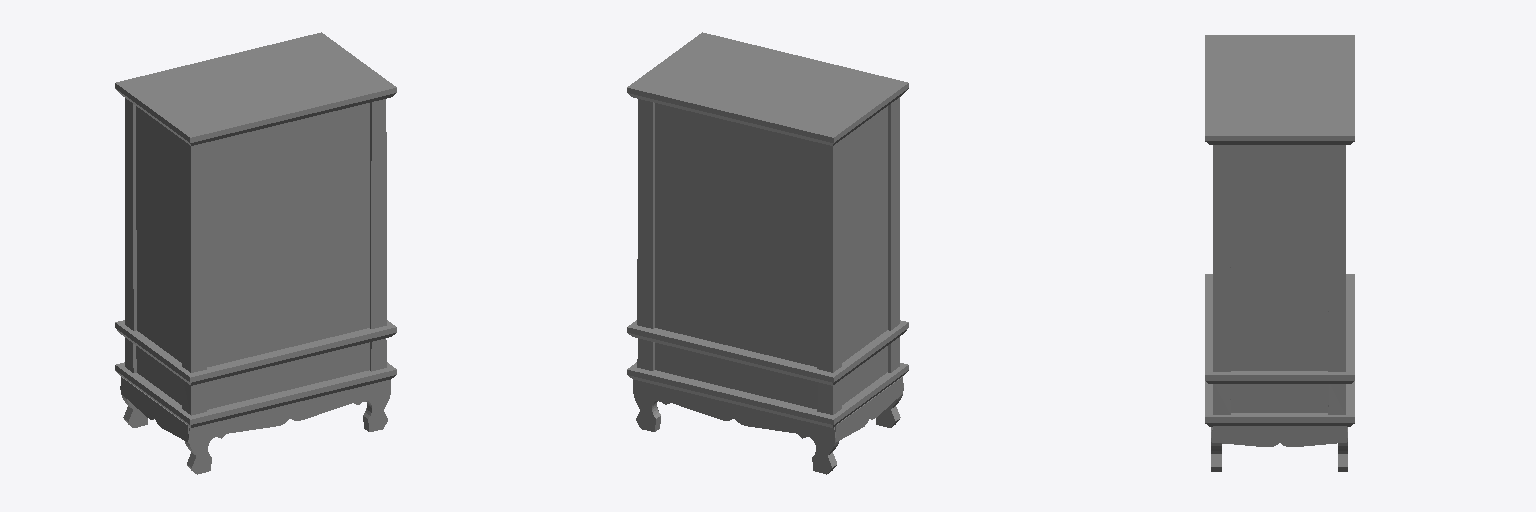
The model's file is Cabinet2.obj.
3 views of the same model, side by side, from view 1: azimuth 30°, elevation 25°; view 2: azimuth 150°, elevation 25°; view 3: azimuth 270°, elevation 25° (orthographic).
Parts seen in each view (by area): view 1: Box02, Box14, Box12, Shape02, Box03, Box13, Shape04; view 2: Box02, Box14, Box12, Shape03, Box03, Box13, Shape04; view 3: Box02, Box14, Box12, Box03, Shape05, Box13.
Part boxes in pixels (bbox=[...]): Box02: bbox=[125, 98, 386, 372]; Box14: bbox=[115, 32, 396, 145]; Box12: bbox=[125, 338, 386, 415]; Shape02: bbox=[185, 380, 390, 474]; Box03: bbox=[115, 320, 396, 385]; Box13: bbox=[115, 362, 396, 427]; Shape04: bbox=[121, 377, 189, 442]; Box02: bbox=[637, 97, 899, 372]; Box14: bbox=[627, 32, 908, 145]; Box12: bbox=[637, 337, 899, 414]; Shape03: bbox=[633, 380, 838, 474]; Box03: bbox=[627, 320, 908, 385]; Box13: bbox=[627, 362, 908, 427]; Shape04: bbox=[835, 376, 902, 441]; Box02: bbox=[1213, 145, 1345, 371]; Box14: bbox=[1205, 35, 1354, 144]; Box12: bbox=[1213, 384, 1345, 414]; Box03: bbox=[1205, 274, 1354, 383]; Shape05: bbox=[1212, 426, 1346, 446]; Box13: bbox=[1205, 381, 1354, 426].
Size of the model in its own units: 13.69 by 21.65 by 8.66.